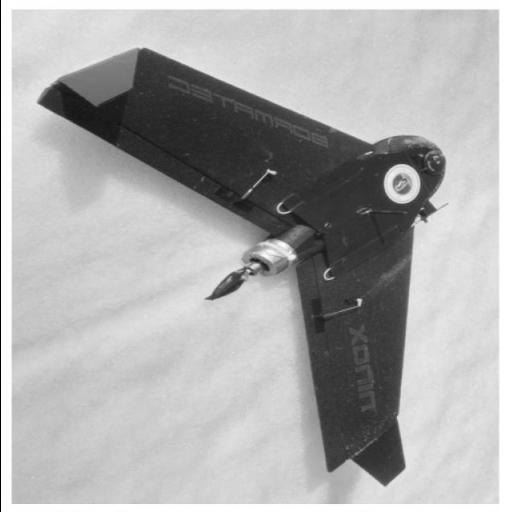uav: (26, 42, 452, 492)
